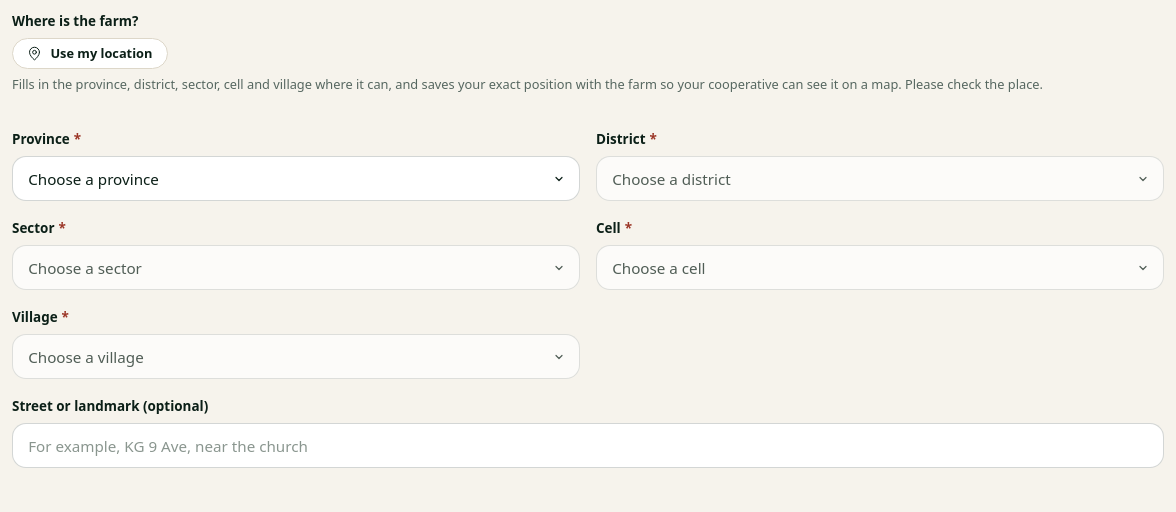
Test: Use my location › fills province, district and sector and leaves cell and village to the person when that is all it knows
The image size is (1176, 512).
Click the button "Use my location".
click(90, 53)  # box top-left (12, 38), bottom-right (168, 69)
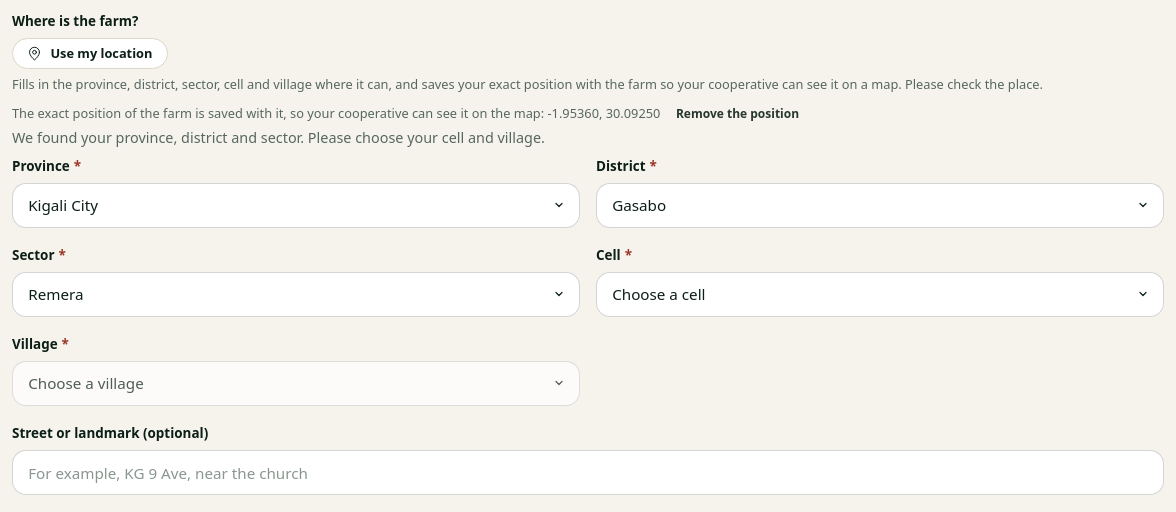
Expected: the dropdown labelled "Sector *" shows "Remera", top-left (12, 272), bottom-right (580, 317)
Expected: the message shows "We found your province, district and sector. Please choose your cell and village.", top-left (12, 128), bottom-right (545, 147)
Expected: the dropdown labelled "Cell *" is enabled, top-left (596, 272), bottom-right (1164, 317)
